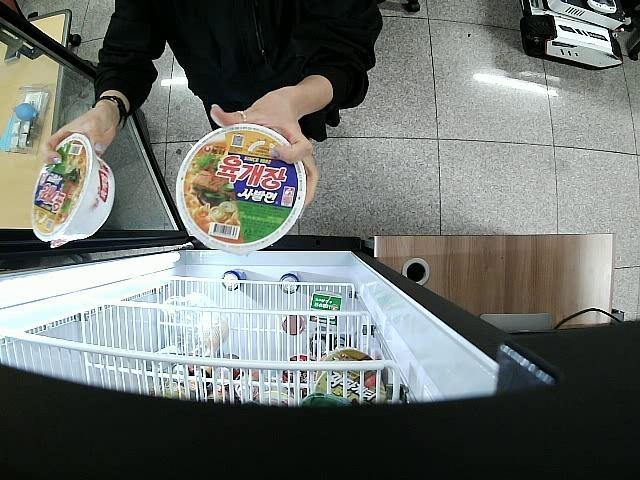09_yukGaeJang: (174, 125, 307, 254), (30, 134, 114, 250)
